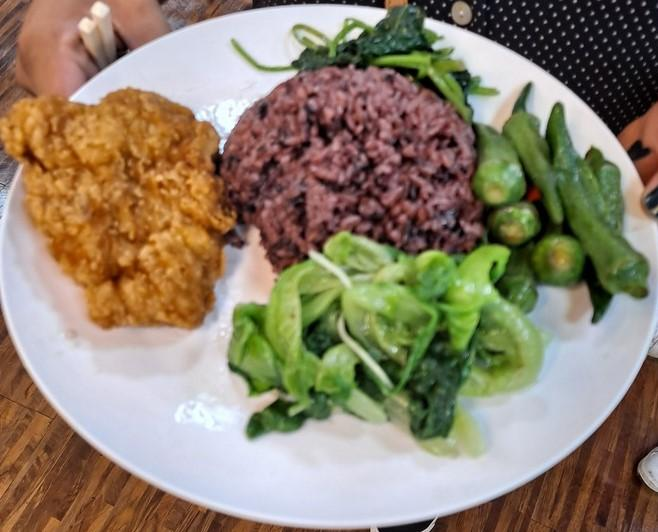big fried chicken leg: (1, 5, 658, 532)
braised fish: (226, 64, 479, 264)
braised fish fillet: (230, 234, 542, 460), (474, 88, 651, 323), (230, 3, 483, 115)
braised pork: (2, 75, 227, 332)
